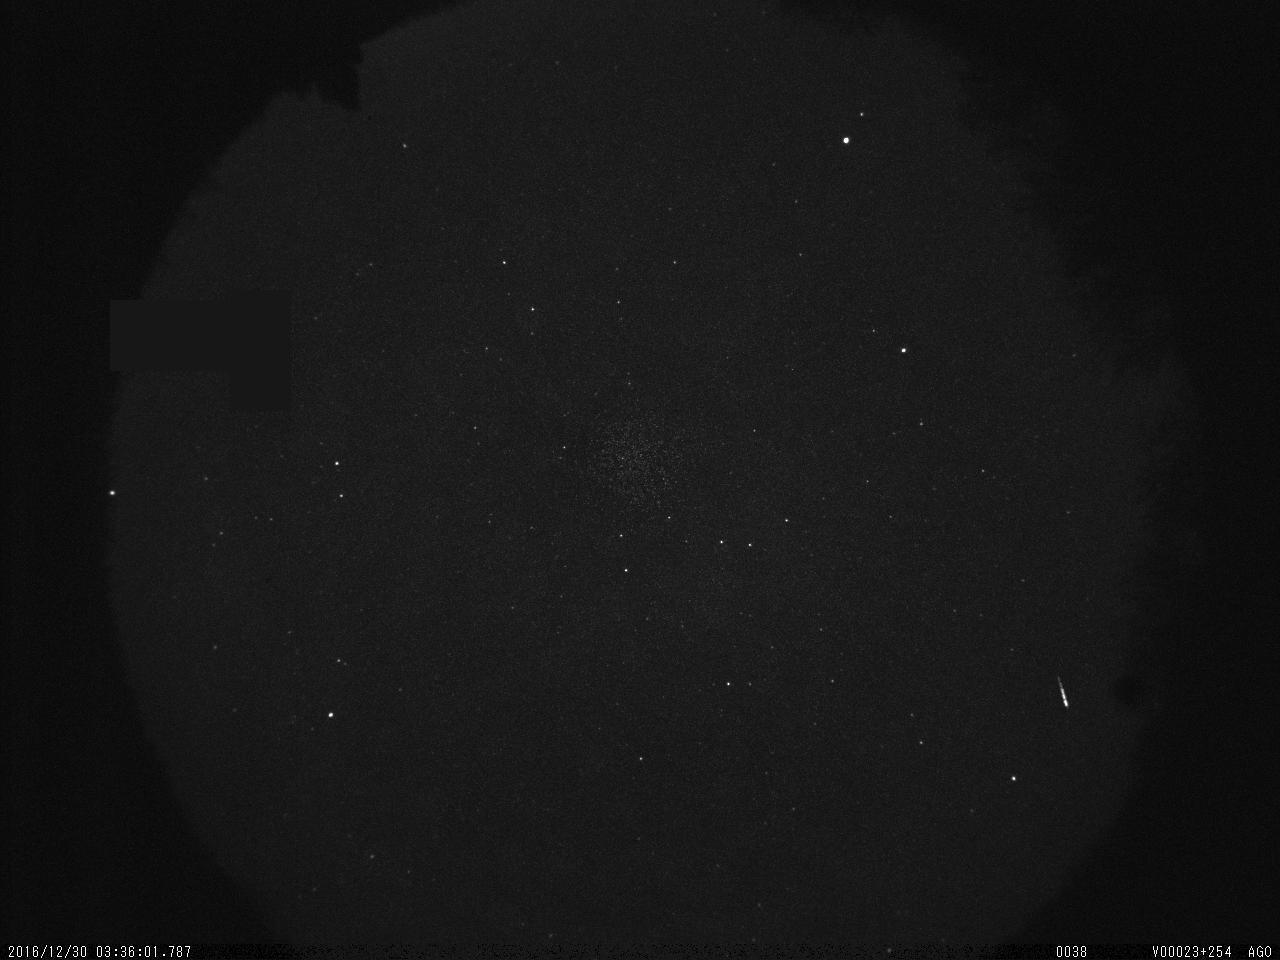meteor: (1051, 674, 1076, 721)
